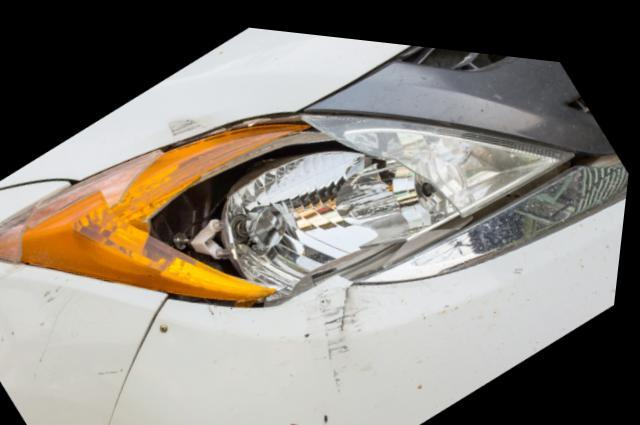crack: (346, 274, 361, 324)
lamp broken: (0, 107, 581, 299)
scratch: (324, 277, 369, 384)
